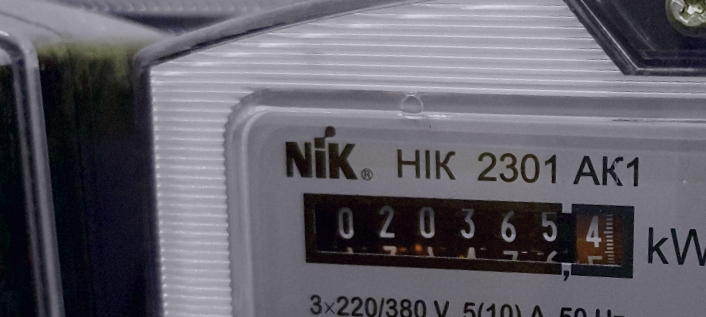0: (416, 203, 438, 241), (334, 204, 357, 240)
2: (373, 203, 399, 240)
3: (457, 204, 478, 240)
4: (583, 212, 605, 248)
5: (538, 209, 560, 243)
6: (497, 207, 519, 244)
screen: (281, 167, 657, 300)
